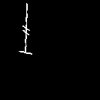treble_crochet: (20, 4, 31, 54)
